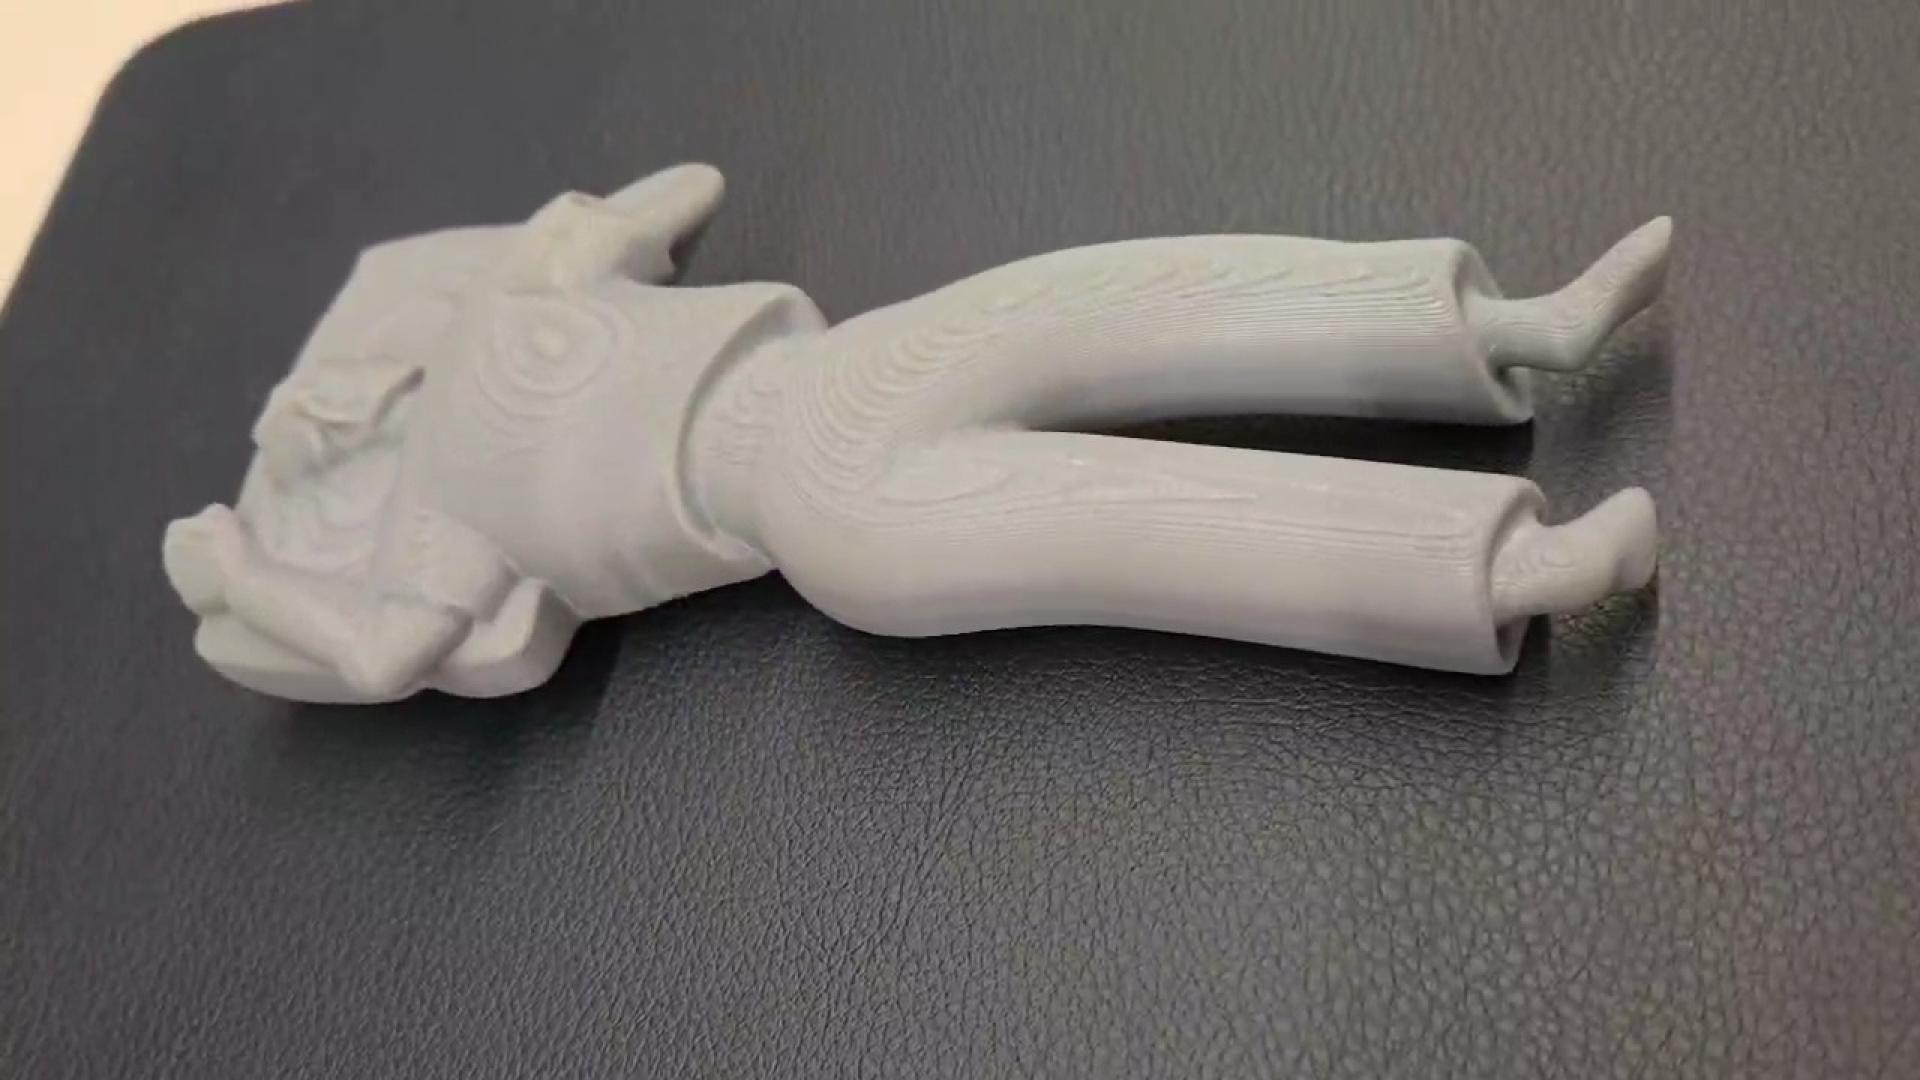Bad-style: (149, 162, 1679, 712)
